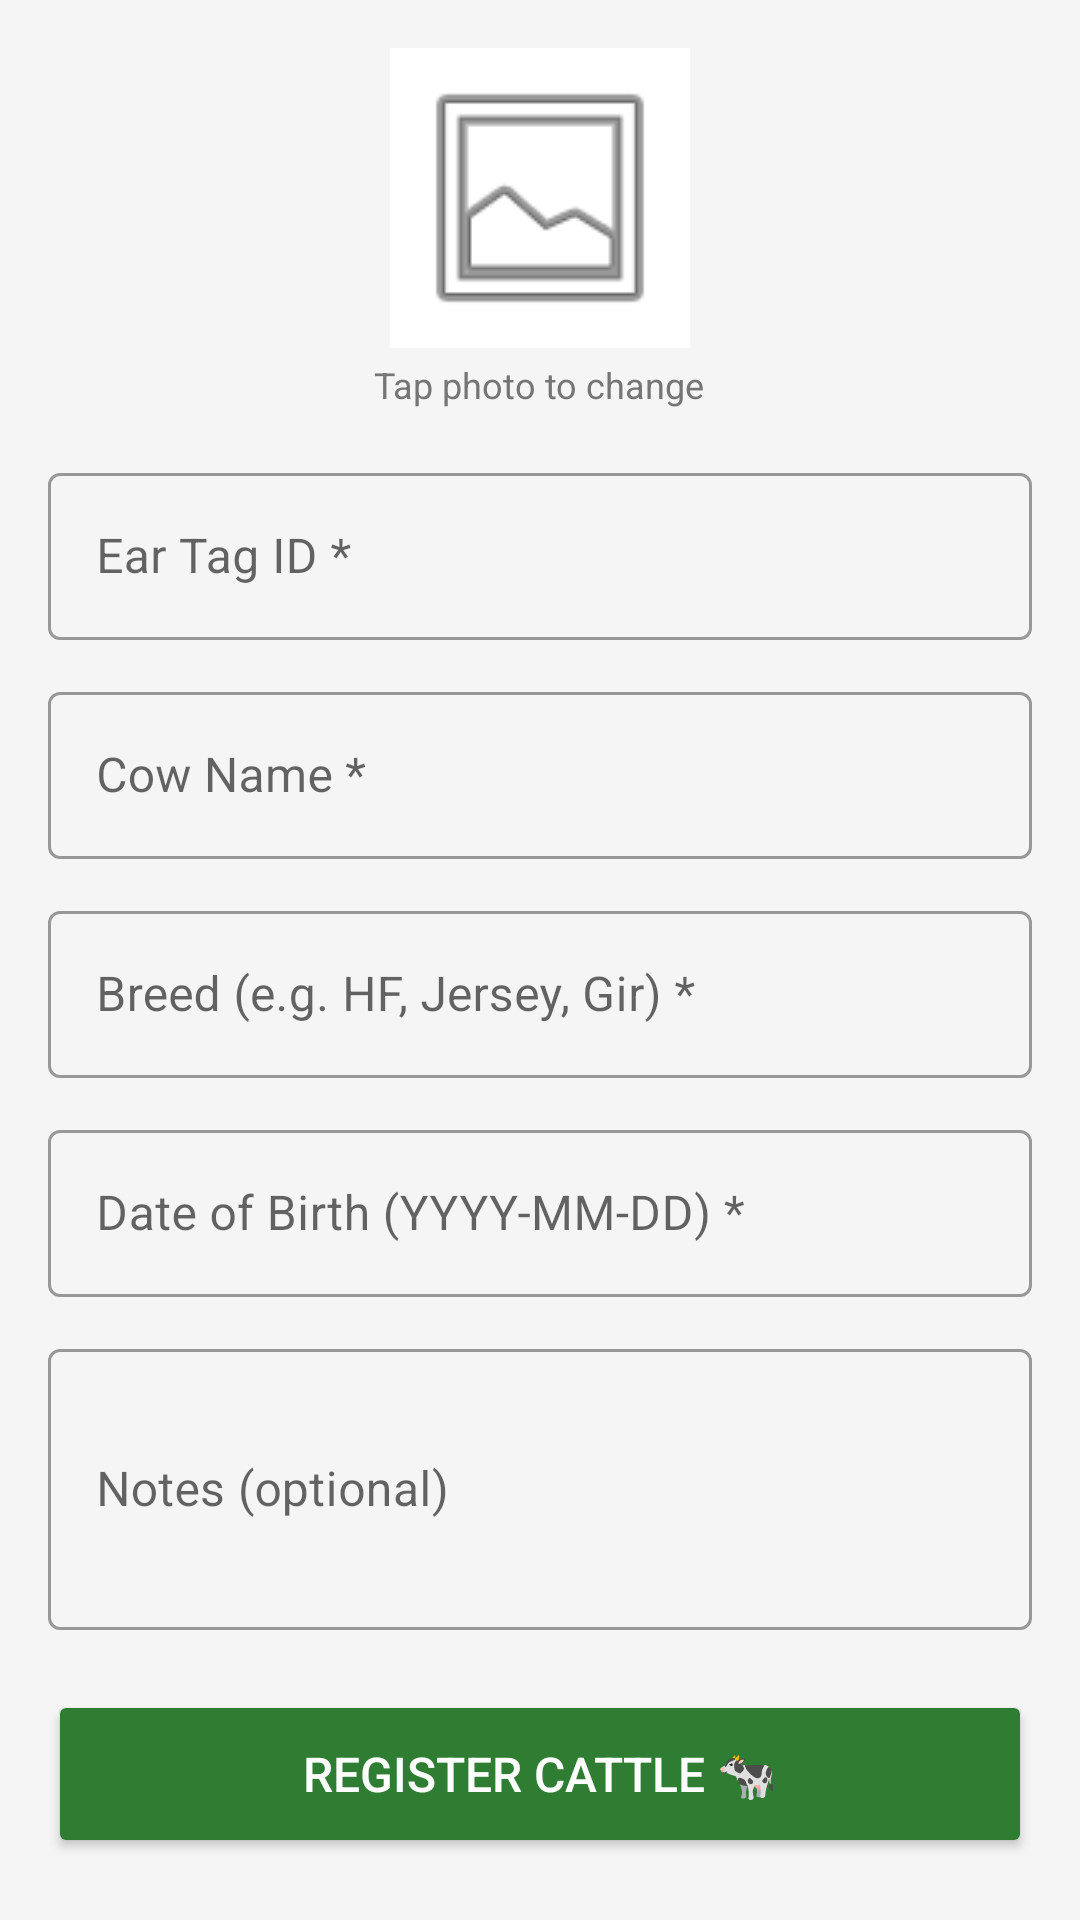

Icons on this 1080x1920 Android screen, each with the point to tap as (x=x, y=y):
gallery: (x=540, y=198)
